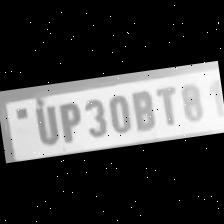0: (102, 90, 132, 135)
1: (201, 74, 224, 121)
3: (79, 94, 108, 140)
8: (174, 78, 208, 124)
B: (126, 85, 158, 133)
P: (54, 98, 86, 144)
T: (152, 82, 181, 130)
U: (28, 102, 60, 148)
